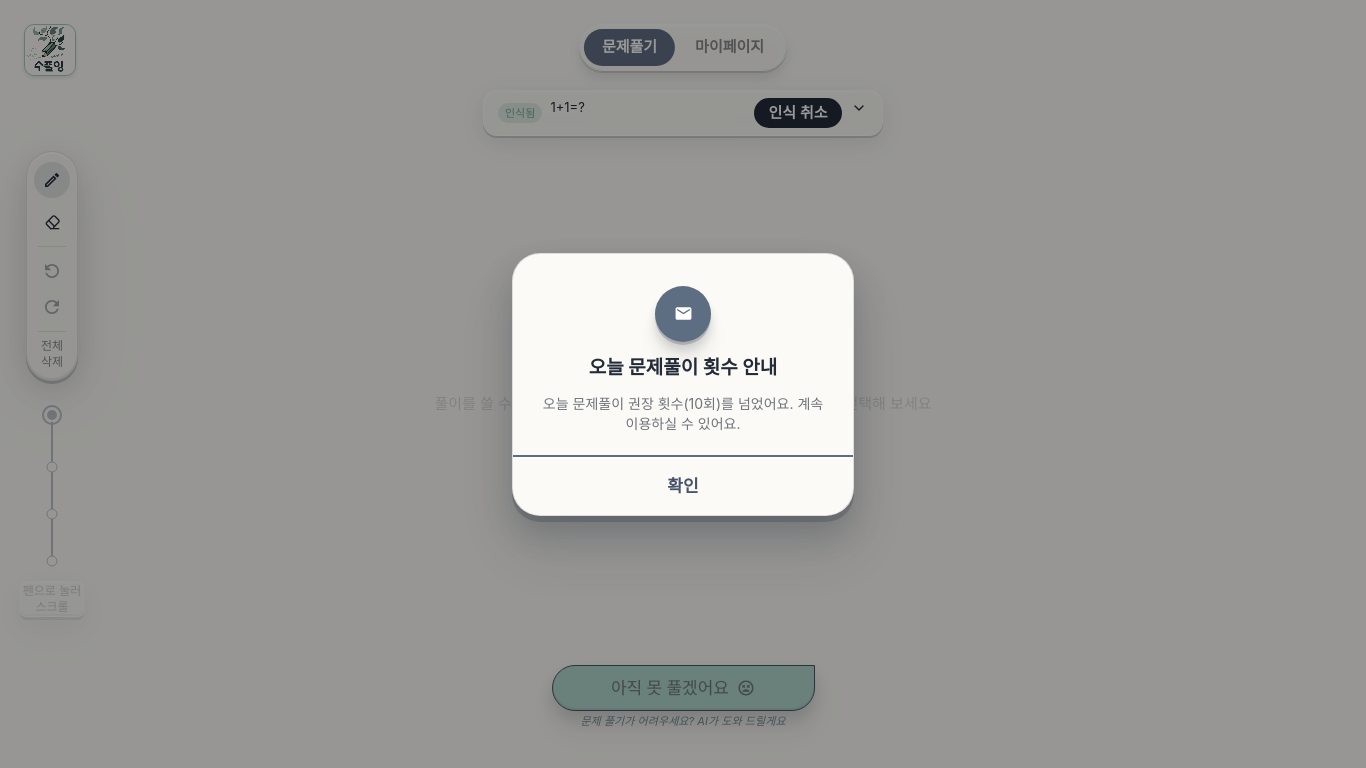
Scenario: SolvePencilcanvasPage — 소프트 캡(하루 10회, 오너 확정) 안내(Figma 없음) › '확인'을 누르면 차단 없이 모달만 닫힌다
This screenshot has width=1366, height=768.
Click the button "확인" at (683, 487), box x1=513 y1=459 x2=853 y2=514
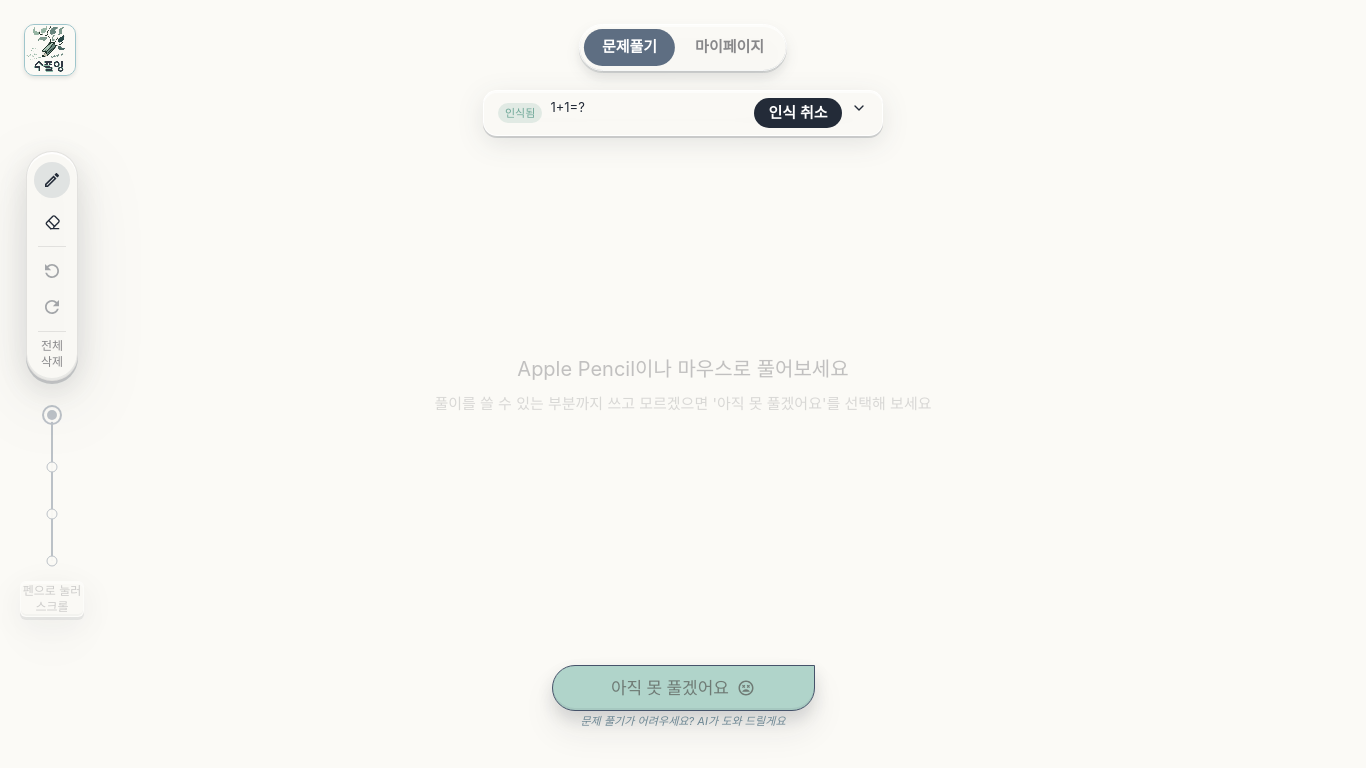
Check: the heading "오늘 문제풀이 횟수 안내" is gone
